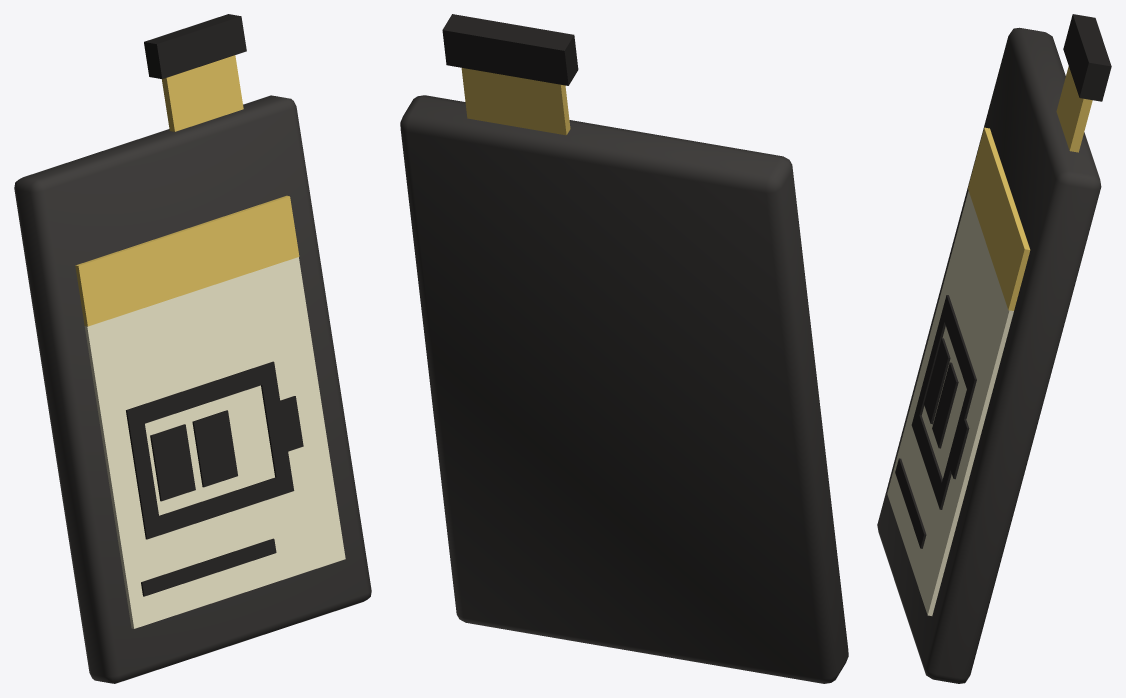
Rendered from phone_battery.glb.
3 renders of one model, left to right at view 1: azimuth 30°, elevation 25°; view 2: azimuth 150°, elevation 25°; view 3: azimuth 270°, elevation 25°, orthographic. The views are drawn at different scales.
Visible parts, largest first — view 1: cell, label, stripe, flex, plug, g_bot, g_b2, g_top, g_b1, g_r, g_l, print (+1 smaller); view 2: cell, plug, flex; view 3: cell, label, stripe, plug, flex, g_bot, g_b2, g_b1, g_top, g_l, print, g_r (+1 smaller).
Boxes of the visible parts, x1,y1,x2,y2 form: cell: [14, 95, 371, 683]; label: [84, 257, 345, 628]; stripe: [75, 195, 299, 326]; flex: [161, 55, 243, 131]; plug: [144, 14, 246, 78]; g_bot: [152, 475, 286, 536]; g_b2: [192, 410, 237, 487]; g_top: [134, 364, 266, 425]; g_b1: [150, 424, 195, 501]; g_r: [258, 361, 294, 494]; g_l: [126, 405, 161, 539]; print: [141, 538, 276, 596]; cell: [400, 95, 848, 683]; plug: [442, 14, 578, 85]; flex: [461, 68, 570, 135]; cell: [877, 27, 1101, 683]; label: [887, 191, 1013, 615]; stripe: [968, 127, 1030, 310]; plug: [1063, 14, 1111, 101]; flex: [1056, 66, 1092, 152]; g_bot: [913, 412, 943, 504]; g_b2: [932, 362, 958, 448]; g_b1: [924, 338, 950, 424]; g_top: [944, 303, 973, 388]; g_l: [911, 295, 951, 431]; print: [895, 458, 926, 548]; g_r: [938, 371, 976, 509].
Size of the model in its own units: 0.0483 by 0.0832 by 0.0297.
